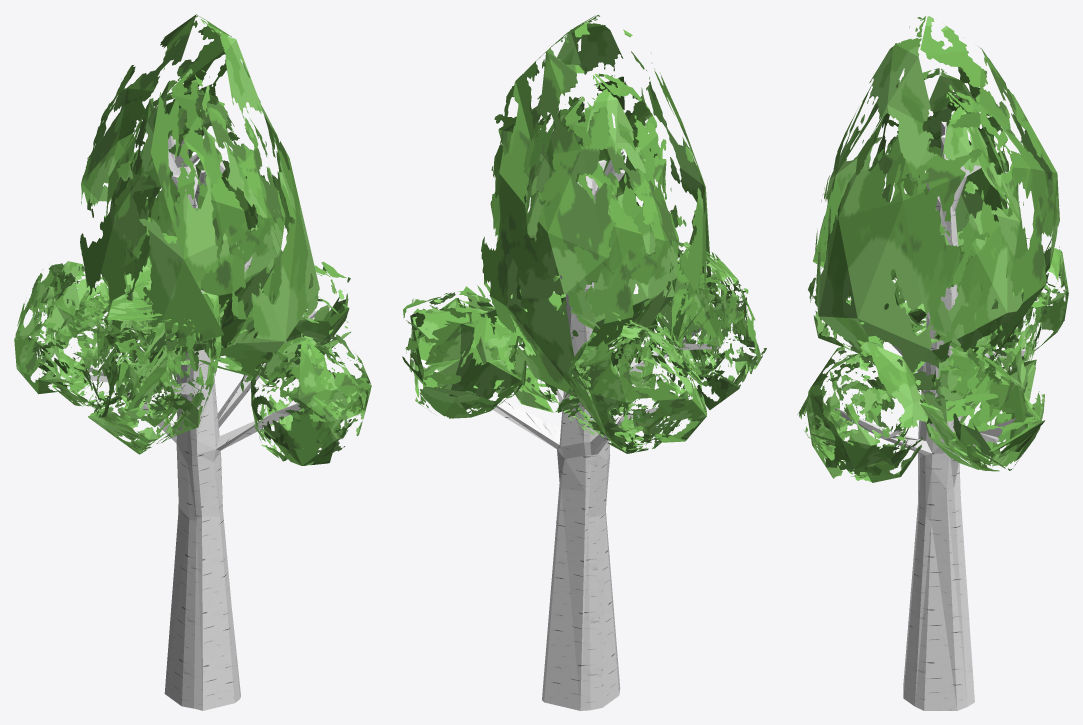
The model's file is birch.obj.
The picture shows the model from 3 angles, left to right: view 1: azimuth 30°, elevation 25°; view 2: azimuth 150°, elevation 25°; view 3: azimuth 270°, elevation 25°; orthographic projection.
Visible parts, largest first — view 1: Icosphere.004, trunk, Icosphere.006, Icosphere.010, Icosphere.005, Icosphere.007, Icosphere.009, Icosphere.001, Icosphere, Icosphere.002, Icosphere.008; view 2: Icosphere.004, trunk, Icosphere.005, Icosphere.006, Icosphere.009, Icosphere.008, Icosphere.010, Icosphere.003, Icosphere.001, Icosphere.002, Icosphere.007; view 3: Icosphere.004, trunk, Icosphere.005, Icosphere.006, Icosphere.007, Icosphere.003, Icosphere.008, Icosphere, Icosphere.009, Icosphere.001, Icosphere.010.
Part boxes in pixels (x1,y1,x2,y2): Icosphere.004: (80, 14, 319, 376); trunk: (85, 135, 316, 710); Icosphere.006: (110, 68, 285, 352); Icosphere.010: (88, 279, 221, 454); Icosphere.005: (102, 86, 281, 364); Icosphere.007: (240, 318, 371, 465); Icosphere.009: (14, 261, 133, 394); Icosphere.001: (28, 273, 157, 409); Icosphere: (251, 335, 366, 461); Icosphere.002: (102, 326, 185, 427); Icosphere.008: (221, 261, 350, 379); Icosphere.004: (477, 15, 712, 397); trunk: (411, 151, 719, 710); Icosphere.005: (505, 96, 678, 378); Icosphere.006: (512, 73, 675, 346); Icosphere.009: (568, 309, 706, 451); Icosphere.008: (403, 286, 523, 418); Icosphere.010: (650, 240, 766, 409); Icosphere.003: (402, 306, 526, 413); Icosphere.001: (560, 324, 692, 453); Icosphere.002: (673, 272, 748, 374); Icosphere.007: (508, 293, 613, 412); Icosphere.004: (813, 16, 1059, 389); trunk: (835, 121, 1025, 710); Icosphere.005: (884, 92, 1029, 354); Icosphere.006: (856, 68, 1027, 343); Icosphere.007: (806, 342, 928, 482); Icosphere.003: (925, 343, 1045, 469); Icosphere.008: (920, 345, 1044, 471); Icosphere: (797, 353, 908, 477); Icosphere.009: (991, 238, 1068, 359); Icosphere.001: (976, 248, 1050, 369); Icosphere.010: (808, 267, 905, 363).
Size of the model in its own units: 5.96 by 12.36 by 4.51.
Materials: 2 (2 with a texture image).
